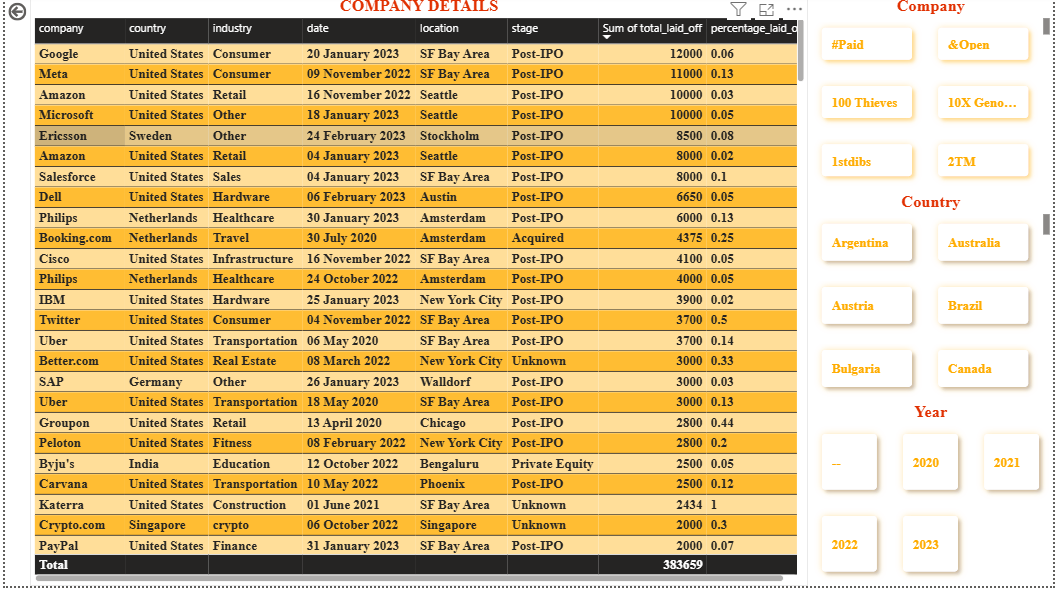

This screenshot's page, from the dashboard's own definition file:
{"tool":"powerbi","page":{"name":"COMPANY DETAILS","canvas":[1280,720],"ordinal":3},"visuals":[{"type":"actionButton","box":[0,0,30.3,38.5],"z":0},{"type":"advancedSlicerVisual","fields":{"Values":["Calender.Date.Variation.Date Hierarchy.Year"]},"box":[980,495.5,300,224.3],"z":1000},{"type":"tableEx","title":"COMPANY DETAILS","fields":{"Values":["world_layoffs layoffs_staging2.company","world_layoffs layoffs_staging2.country","world_layoffs layoffs_staging2.industry","world_layoffs layoffs_staging2.date","world_layoffs layoffs_staging2.location","world_layoffs layoffs_staging2.stage","Sum(world_layoffs layoffs_staging2.total_laid_off)","world_layoffs layoffs_staging2.percentage_laid_off"]},"box":[30.3,0,949.7,719.8],"z":2000},{"type":"advancedSlicerVisual","title":"Country","fields":{"Values":["world_layoffs layoffs_staging2.country"]},"box":[980,239.5,300,256],"z":3000},{"type":"advancedSlicerVisual","title":"Company","fields":{"Values":["world_layoffs layoffs_staging2.company"]},"box":[980,0,300,239.5],"z":4000}]}

Visuals, with their boxes on the page's 1280x720 design canvas (x1, y1, x2, y2). These are canvas units, not pixel positions in the 1057x592 screenshot, which may show the page scaled, cropped or inside an application window:
actionButton: region(0, 0, 30, 38)
advancedSlicerVisual - Calender.Date.Variation.Date Hierarchy.Year: region(980, 496, 1280, 720)
"COMPANY DETAILS" tableEx: region(30, 0, 980, 720)
"Country" advancedSlicerVisual: region(980, 240, 1280, 496)
"Company" advancedSlicerVisual: region(980, 0, 1280, 240)
